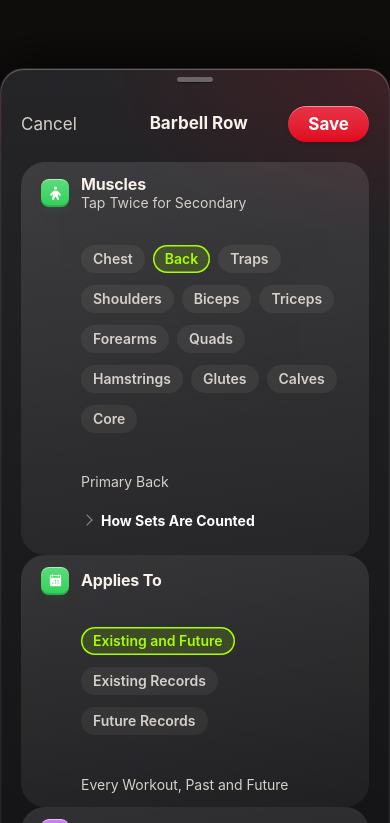
Test case: the scope receipt is facts, not a sentence carrying a date it stores › says the window as month and day, never as the ISO string
What coordinates should you click on to do the following:
click the button "Future Records"
I would click on:
 (144, 721)
Its box is [81,707,208,735].
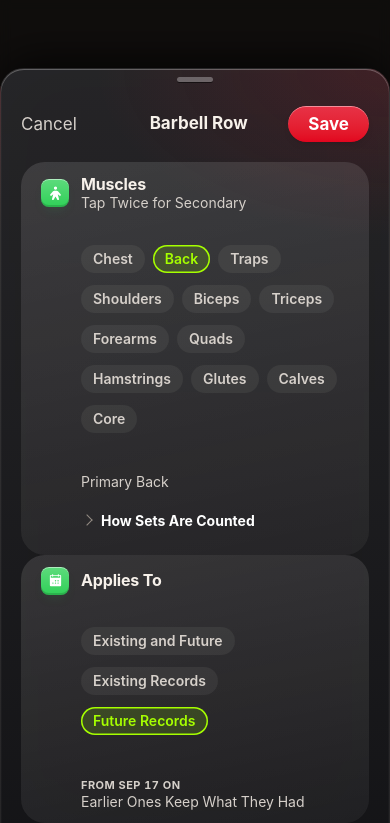
Check: the text "From Sep 17 on" is shown, box [81,778,180,792]
